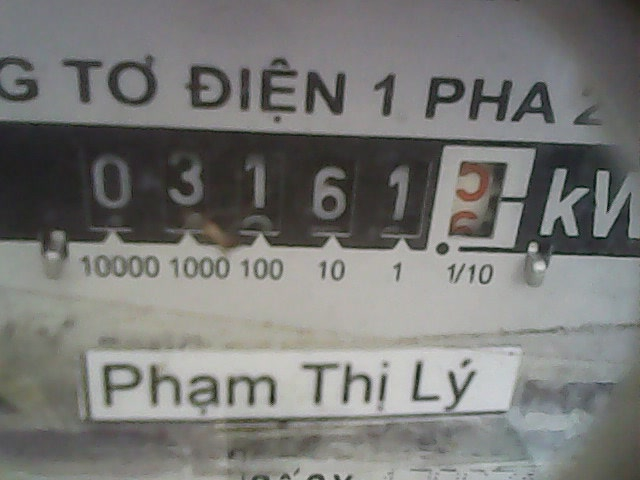phy_plate: (69, 120, 542, 258)
